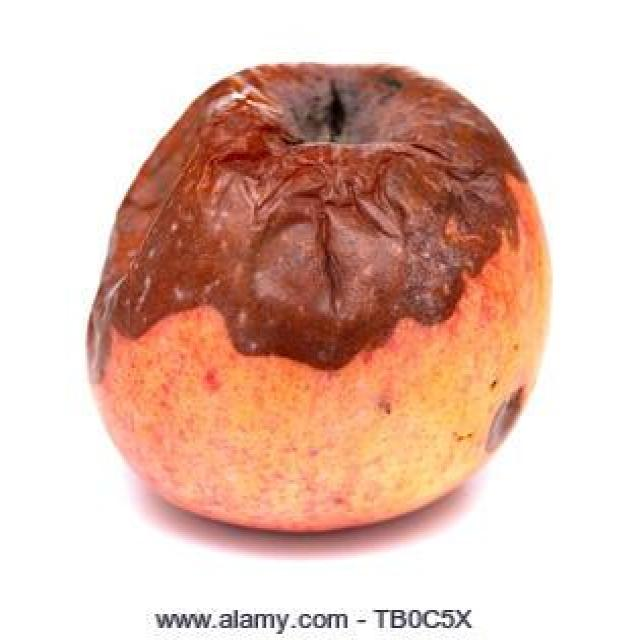Rotten: (105, 71, 547, 545)
